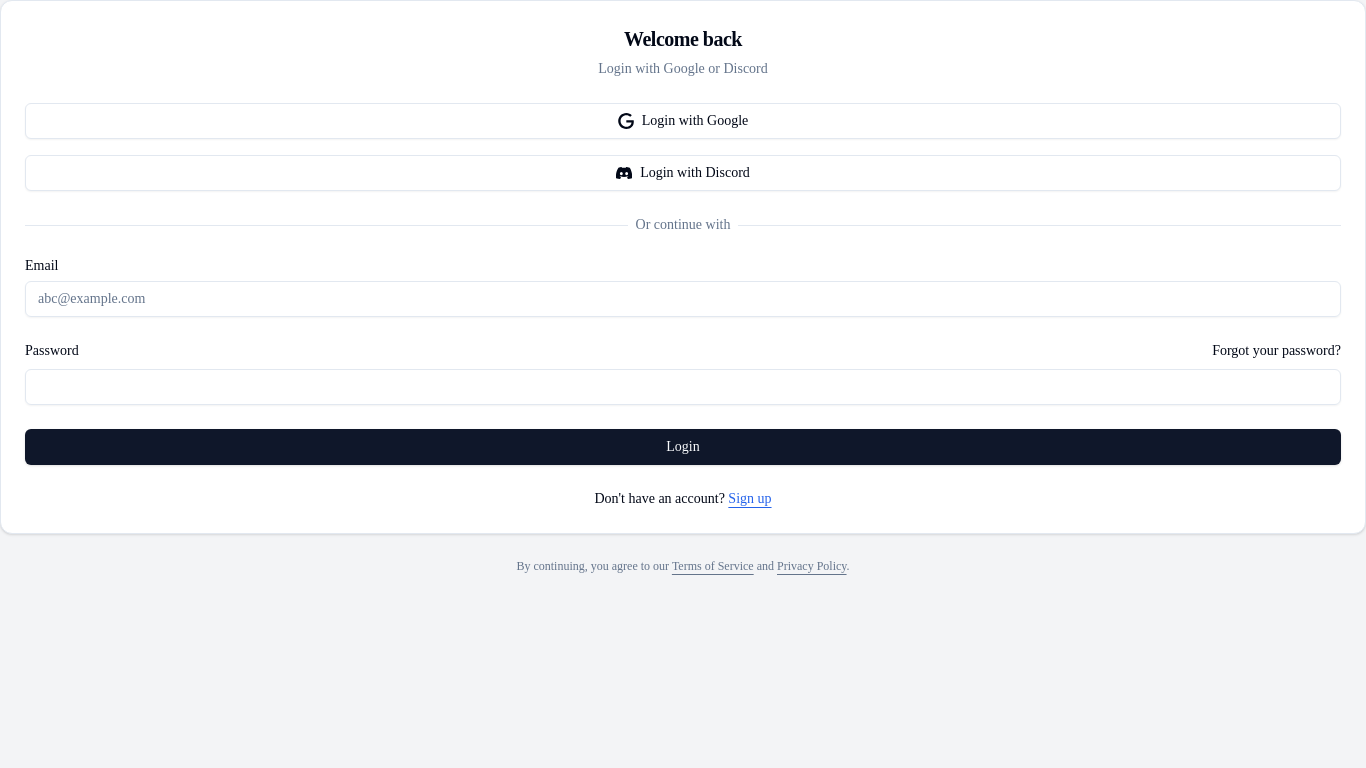
Test case: LoginForm › closes forgot password popup
This screenshot has width=1366, height=768.
Click the link "Forgot your password?": (1277, 351) [1212, 341, 1341, 361]
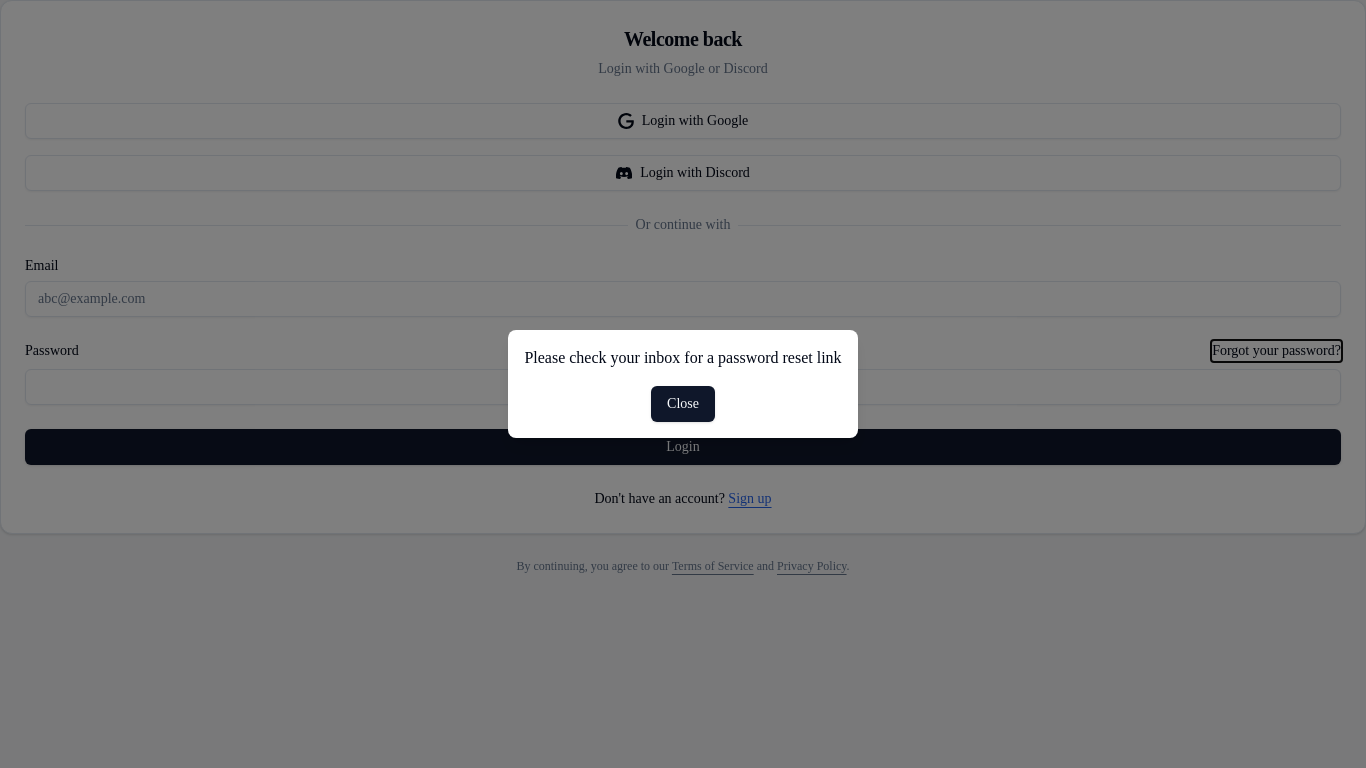
Click the button "Close": (683, 404) [651, 386, 715, 422]
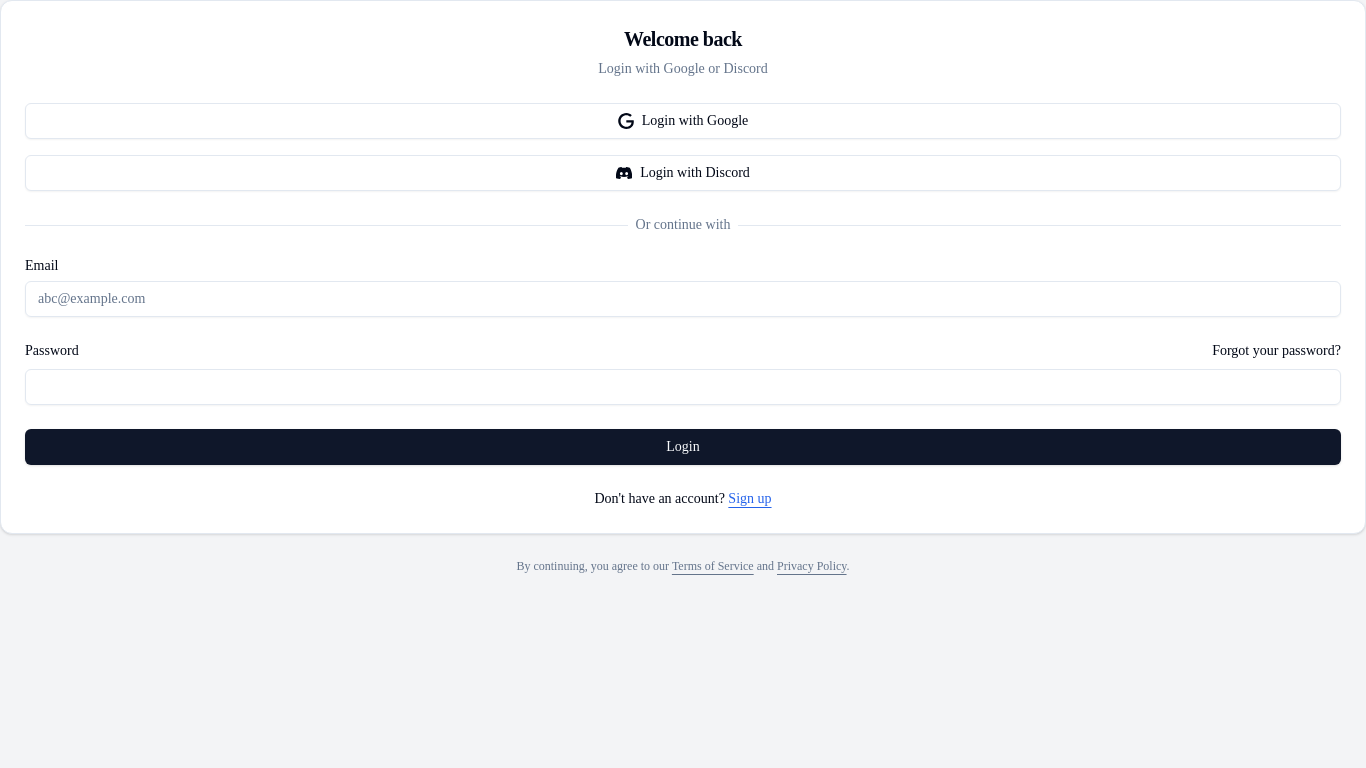
Now the text "Please check your inbox for a password reset link" is gone
